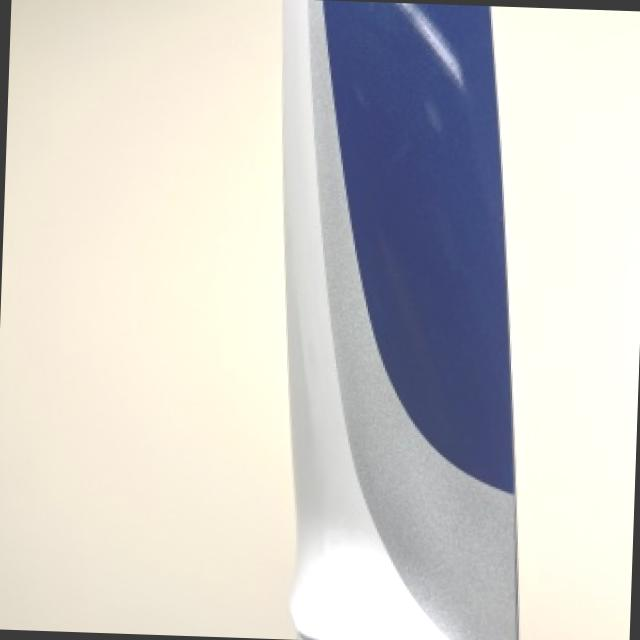healthy: (282, 0, 514, 640)
